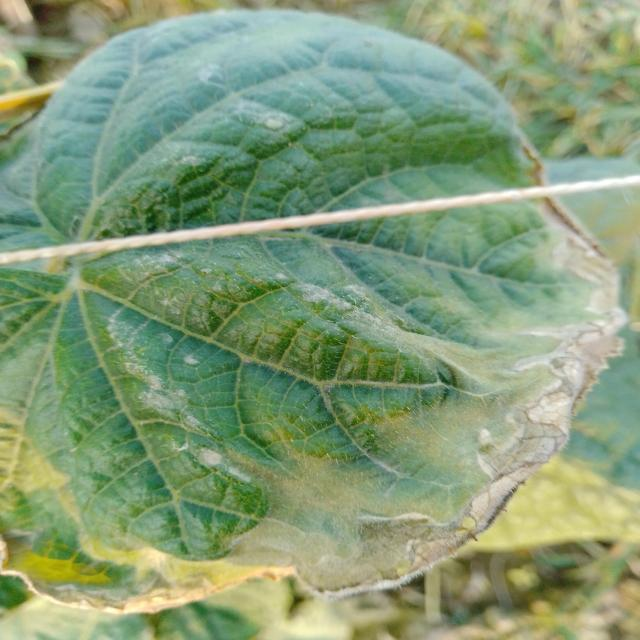cucumber_gummy: (0, 7, 631, 617)
